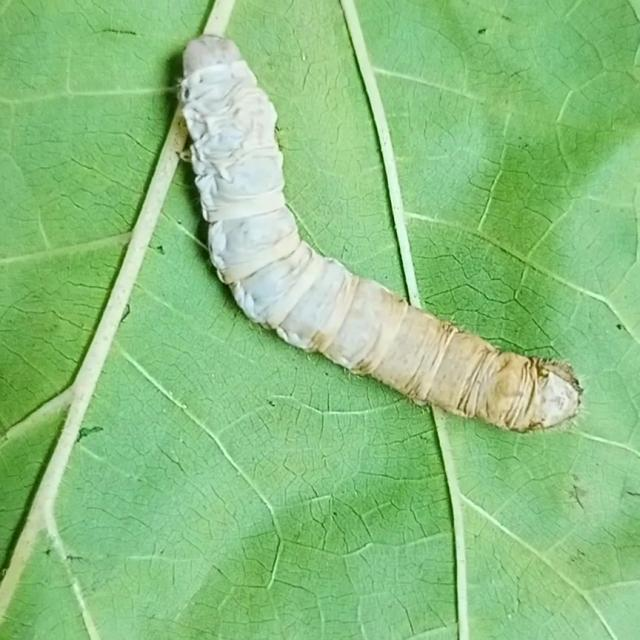Grasserie: (147, 18, 589, 450)
